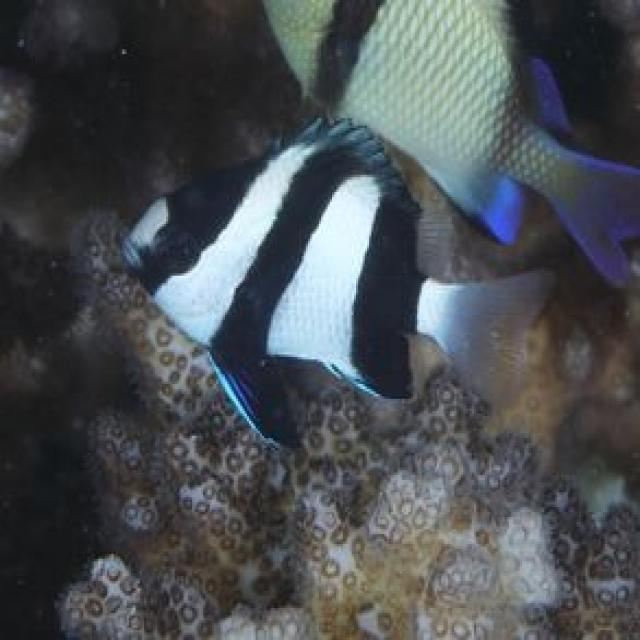ThreeStripedDamselfish: (122, 118, 557, 450)
